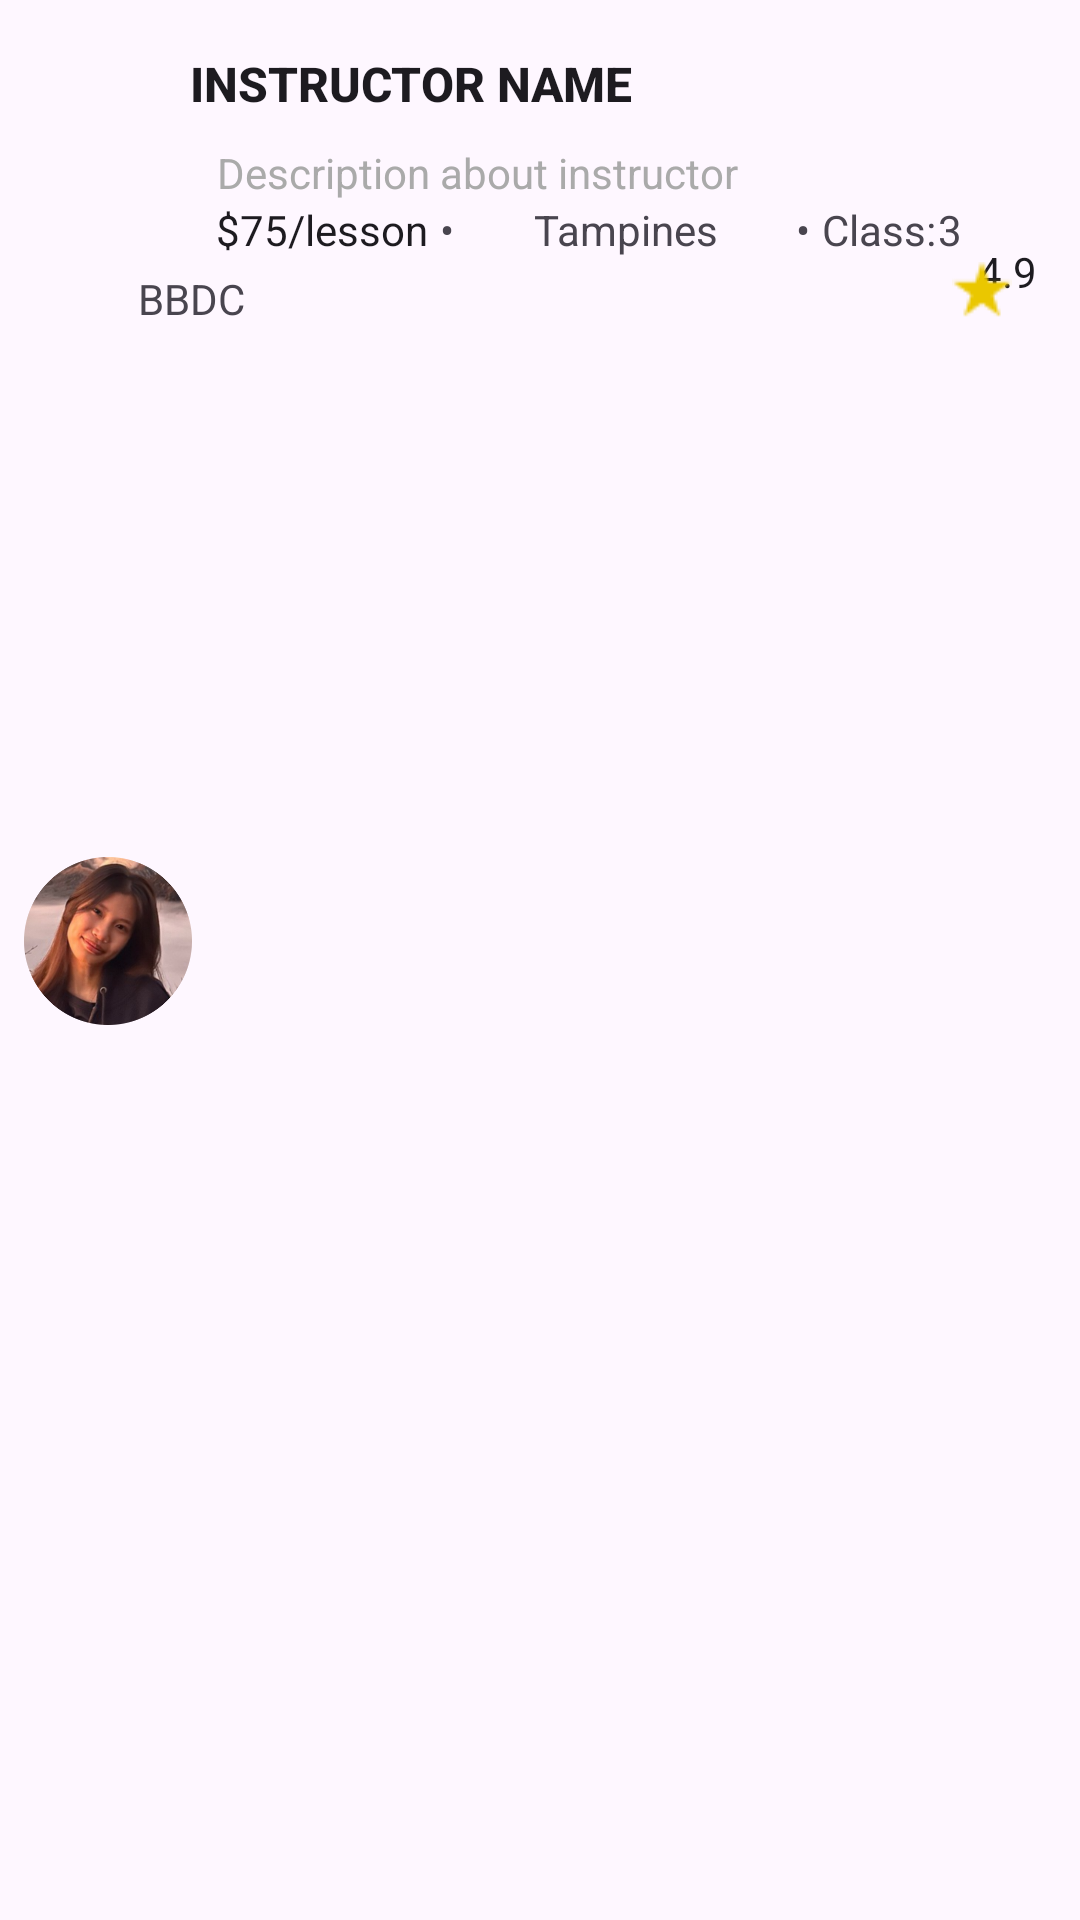

Point at icon controls on the screen. Image size 1080*1920, points as point (x, y).
profile vernice kah: point (108, 941)
rating star: point (982, 288)
